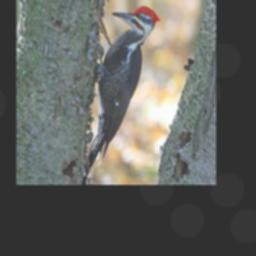Woodpecker: (84, 4, 162, 183)
